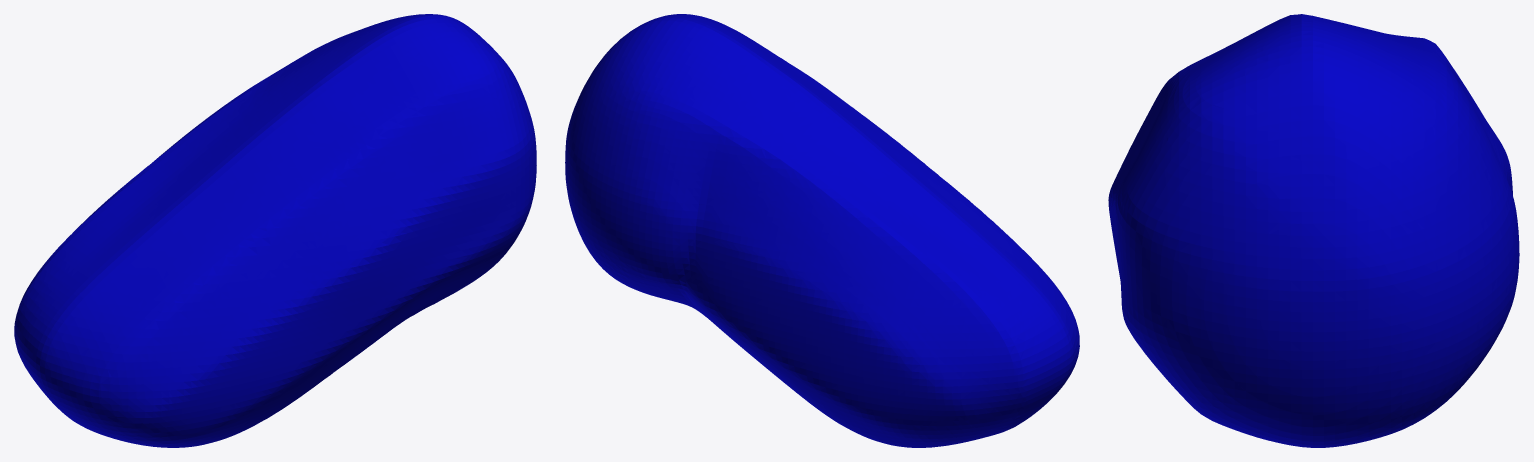
The model's file is hand_part_1.glb.
3 renders of one model, left to right at view 1: azimuth 30°, elevation 25°; view 2: azimuth 150°, elevation 25°; view 3: azimuth 270°, elevation 25°, orthographic. The views are drawn at different scales.
Size of the model in its own units: 0.0441 by 0.0309 by 0.0214.
